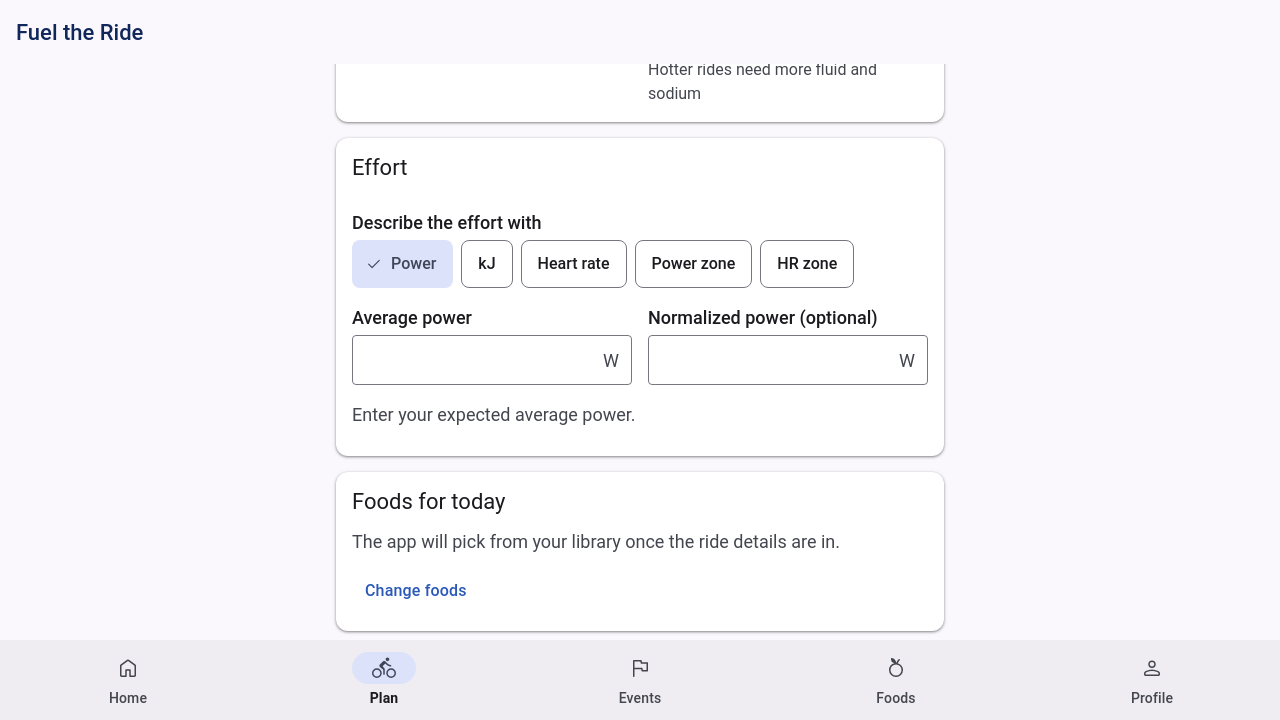
Scenario: plan a ride: live preview › indoor adds 150 ml/hr and says why (spec T6)
This screenshot has width=1280, height=720.
(page scrolled)
Type "175" into the field labelled "Average power".
click(478, 360); type("175")  # box top-left (353, 336), bottom-right (603, 384)
(page scrolled)
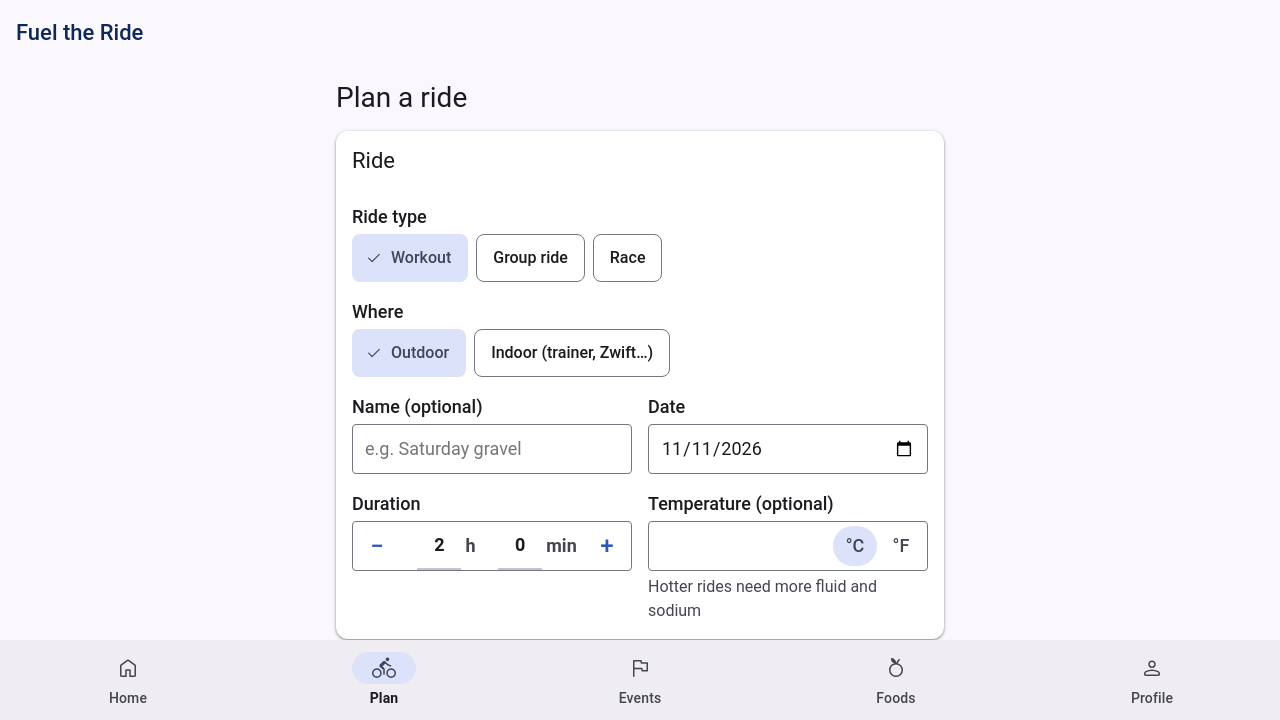
Click the radio button labelled "Indoor (trainer, Zwift…)".
click(572, 352)  # box top-left (474, 328), bottom-right (670, 376)
(page scrolled)
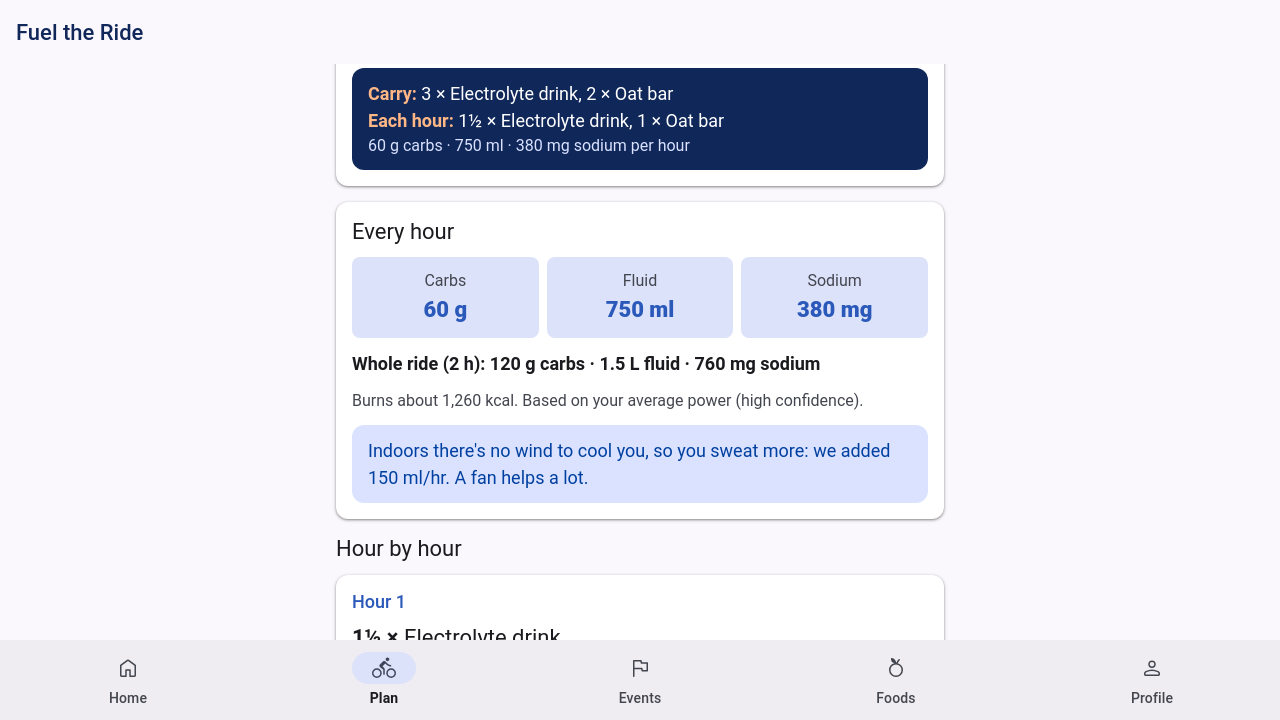
Expected: the text "750 ml" is shown, top-left (606, 297), bottom-right (674, 322)
Expected: the element "Every hour" shows "no wind to cool you", top-left (368, 440), bottom-right (890, 488)
